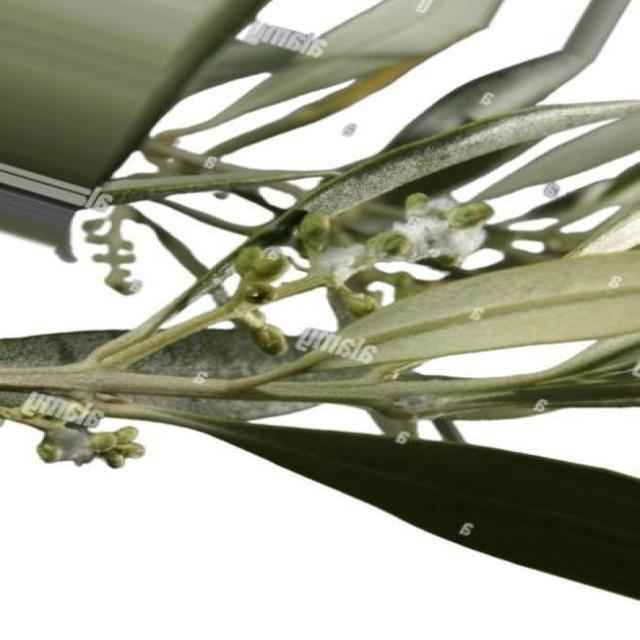Psyllid: (294, 194, 492, 316), (36, 424, 143, 468)
